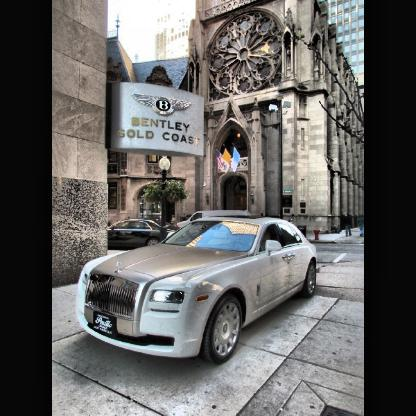Rolls-Royce Ghost Sedan 2012: (76, 216, 321, 367)
